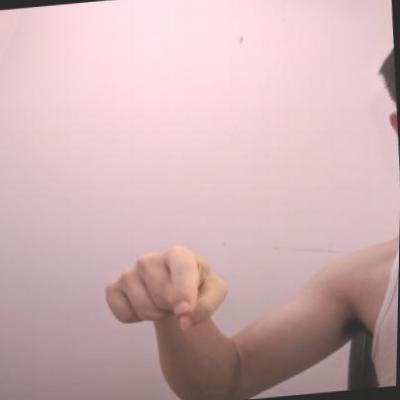hand: (100, 241, 238, 342)
